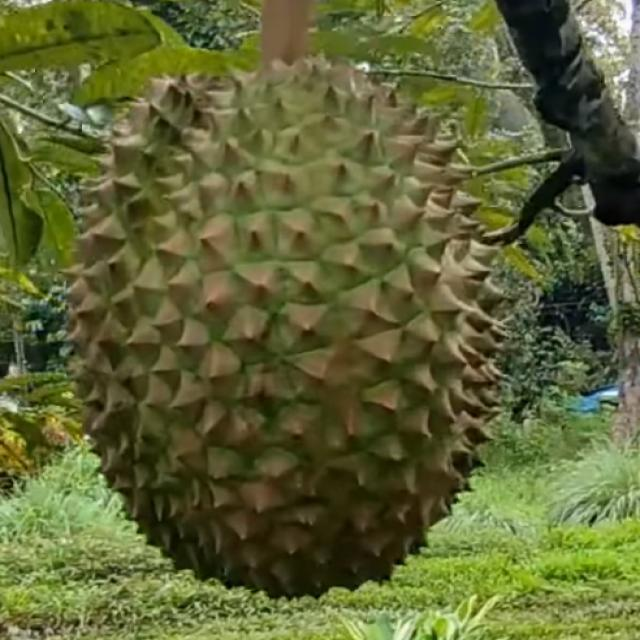mature: (53, 48, 509, 600)
